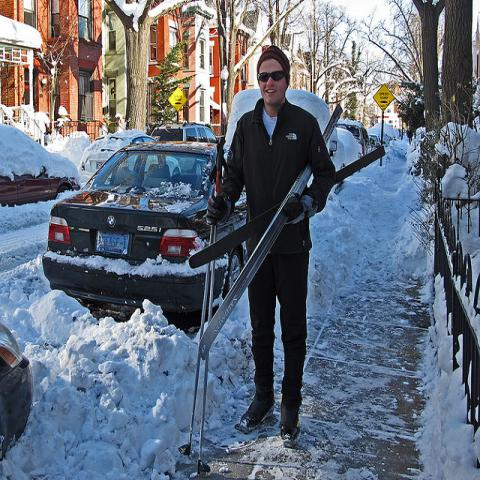car: (41, 140, 247, 313), (222, 88, 363, 170), (1, 124, 82, 209), (0, 322, 35, 458), (79, 134, 158, 182), (339, 122, 378, 155), (151, 124, 219, 142), (369, 135, 381, 146)
